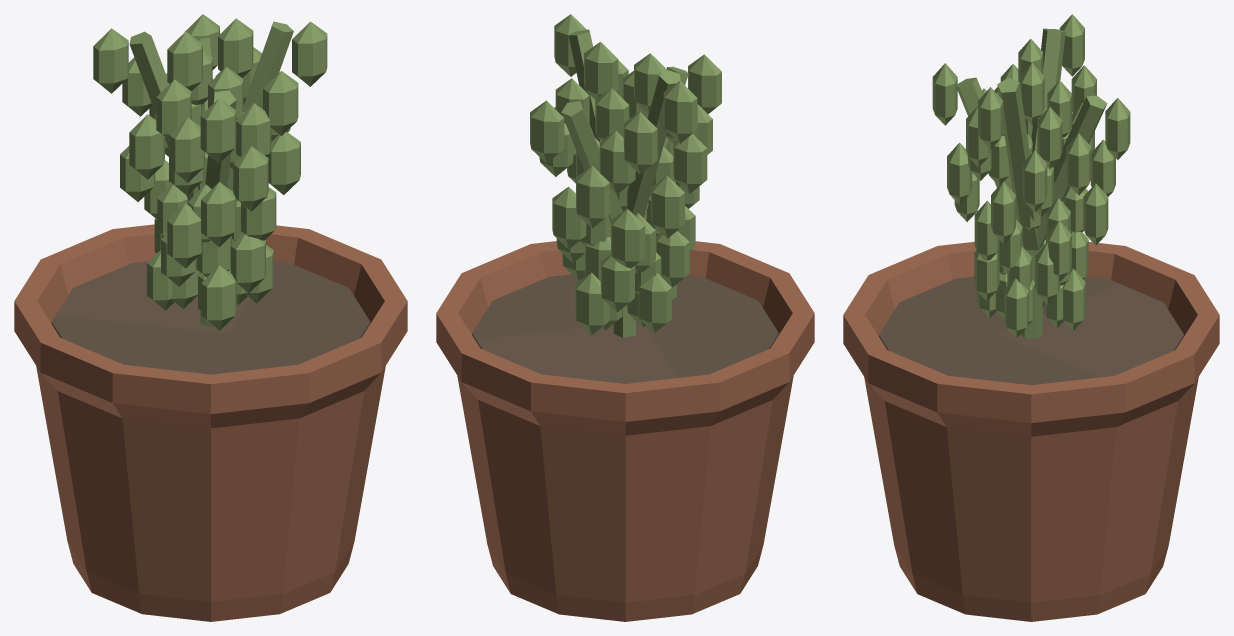
Rendered from sedum.glb.
3 renders of one model, left to right at view 1: azimuth 30°, elevation 25°; view 2: azimuth 150°, elevation 25°; view 3: azimuth 270°, elevation 25°, orthographic. The views are drawn at different scales.
Visible parts, largest first — view 1: sedum/review-terra-vessel, sedum/review-rooted-soil, sedum/stem-046, sedum/ovoid-leaf-045, sedum/ovoid-leaf-030, sedum/ovoid-leaf-060, sedum/ovoid-leaf-038, sedum/ovoid-leaf-040, sedum/ovoid-leaf-033, sedum/ovoid-leaf-058, sedum/ovoid-leaf-025, sedum/ovoid-leaf-043 (+22 smaller); view 2: sedum/review-terra-vessel, sedum/review-rooted-soil, sedum/stem-016, sedum/stem-001, sedum/ovoid-leaf-015, sedum/ovoid-leaf-030, sedum/ovoid-leaf-028, sedum/ovoid-leaf-010, sedum/ovoid-leaf-023, sedum/ovoid-leaf-021, sedum/ovoid-leaf-025, sedum/ovoid-leaf-059 (+18 smaller); view 3: sedum/review-terra-vessel, sedum/review-rooted-soil, sedum/stem-046, sedum/stem-001, sedum/stem-016, sedum/ovoid-leaf-008, sedum/ovoid-leaf-013, sedum/ovoid-leaf-060, sedum/ovoid-leaf-015, sedum/ovoid-leaf-055, sedum/ovoid-leaf-045, sedum/ovoid-leaf-057 (+23 smaller).
Part boxes in pixels (left/top/right/bottom): sedum/review-terra-vessel: left=14, top=224, right=407, bottom=621; sedum/review-rooted-soil: left=51, top=261, right=370, bottom=374; sedum/stem-046: left=200, top=21, right=293, bottom=326; sedum/ovoid-leaf-045: left=200, top=98, right=236, bottom=163; sedum/ovoid-leaf-030: left=93, top=28, right=128, bottom=93; sedum/ovoid-leaf-060: left=292, top=21, right=327, bottom=86; sedum/ovoid-leaf-038: left=201, top=182, right=236, bottom=247; sedum/ovoid-leaf-040: left=233, top=146, right=268, bottom=211; sedum/ovoid-leaf-033: left=201, top=265, right=236, bottom=330; sedum/ovoid-leaf-058: left=263, top=71, right=298, bottom=136; sedum/ovoid-leaf-025: left=129, top=114, right=164, bottom=179; sedum/ovoid-leaf-043: left=169, top=117, right=204, bottom=182; sedum/review-terra-vessel: left=436, top=241, right=814, bottom=621; sedum/review-rooted-soil: left=472, top=274, right=778, bottom=383; sedum/stem-016: left=613, top=69, right=680, bottom=337; sedum/stem-001: left=561, top=101, right=635, bottom=337; sedum/ovoid-leaf-015: left=530, top=100, right=564, bottom=163; sedum/ovoid-leaf-030: left=663, top=81, right=697, bottom=143; sedum/ovoid-leaf-028: left=623, top=112, right=657, bottom=174; sedum/ovoid-leaf-010: left=576, top=165, right=609, bottom=228; sedum/ovoid-leaf-023: left=651, top=175, right=684, bottom=238; sedum/ovoid-leaf-021: left=611, top=208, right=644, bottom=268; sedum/ovoid-leaf-025: left=673, top=134, right=707, bottom=193; sedum/ovoid-leaf-059: left=584, top=42, right=618, bottom=99; sedum/review-terra-vessel: left=843, top=241, right=1219, bottom=621; sedum/review-rooted-soil: left=879, top=276, right=1183, bottom=385; sedum/stem-046: left=997, top=77, right=1038, bottom=250; sedum/stem-001: left=1036, top=95, right=1107, bottom=250; sedum/stem-016: left=1021, top=28, right=1065, bottom=338; sedum/ovoid-leaf-008: left=1083, top=183, right=1108, bottom=245; sedum/ovoid-leaf-013: left=1066, top=133, right=1091, bottom=195; sedum/ovoid-leaf-060: left=978, top=87, right=1003, bottom=149; sedum/ovoid-leaf-015: left=1105, top=98, right=1130, bottom=159; sedum/ovoid-leaf-055: left=1022, top=150, right=1047, bottom=212; sedum/ovoid-leaf-045: left=932, top=63, right=957, bottom=125; sedum/ovoid-leaf-057: left=1037, top=107, right=1062, bottom=168.
Size of the model in its own units: 0.19 by 0.2873 by 0.19.
Materials: 3 (3 with a texture image).
